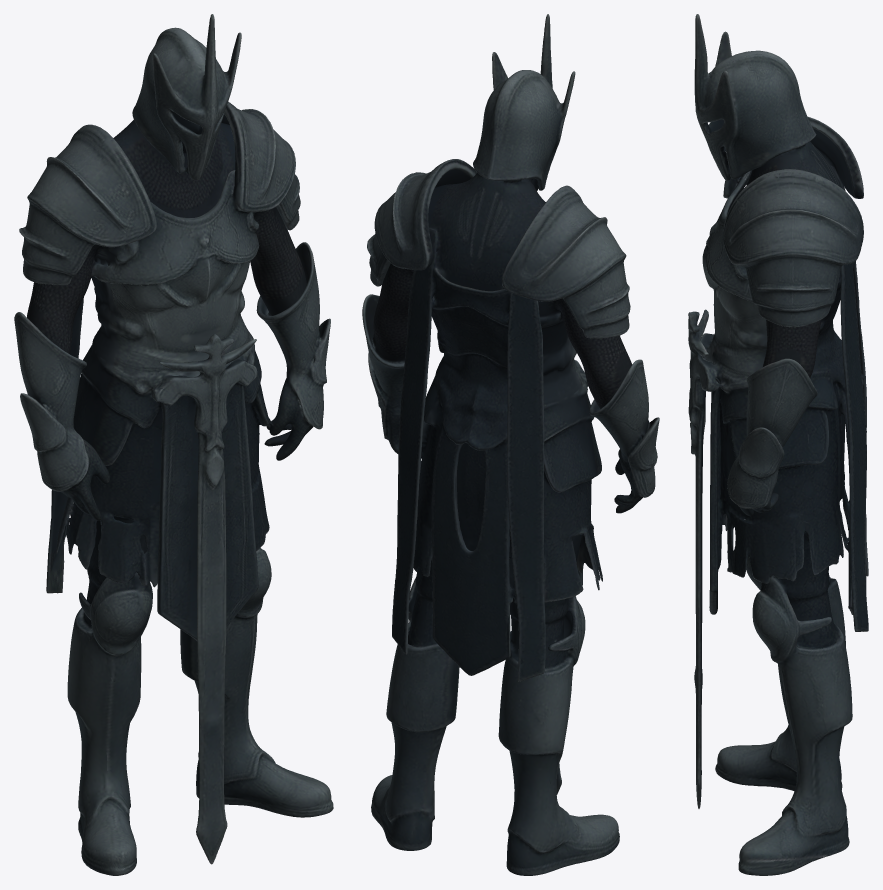
The model's file is warden-meshy6lite-textured.glb.
3 renders of one model, left to right at view 1: azimuth 30°, elevation 25°; view 2: azimuth 150°, elevation 25°; view 3: azimuth 270°, elevation 25°, orthographic. The views are drawn at different scales.
Bounding box in the file's own units: 0.7202 × 1.9 × 0.3899.
1 material, 1 textured.
